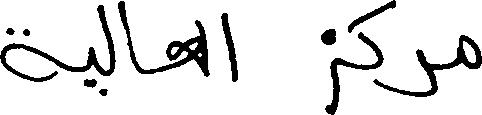X: (349, 0, 394, 96), (0, 23, 58, 86), (396, 44, 437, 101), (167, 15, 198, 74), (118, 0, 140, 77), (220, 8, 238, 86), (99, 0, 113, 100), (325, 24, 339, 114), (459, 30, 481, 73), (200, 17, 210, 81), (87, 42, 94, 92)
